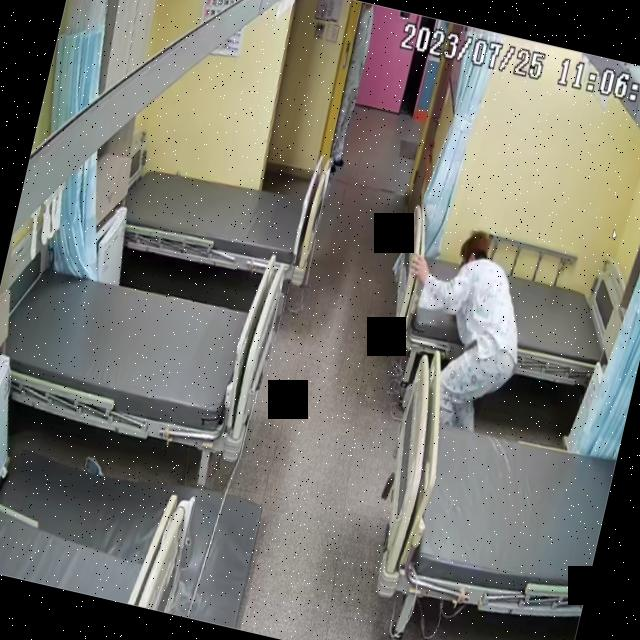bed: (362, 346, 630, 634), (0, 249, 279, 457), (378, 230, 632, 398), (117, 147, 323, 286)
danger: (376, 206, 542, 447)
patient: (373, 204, 544, 448)
